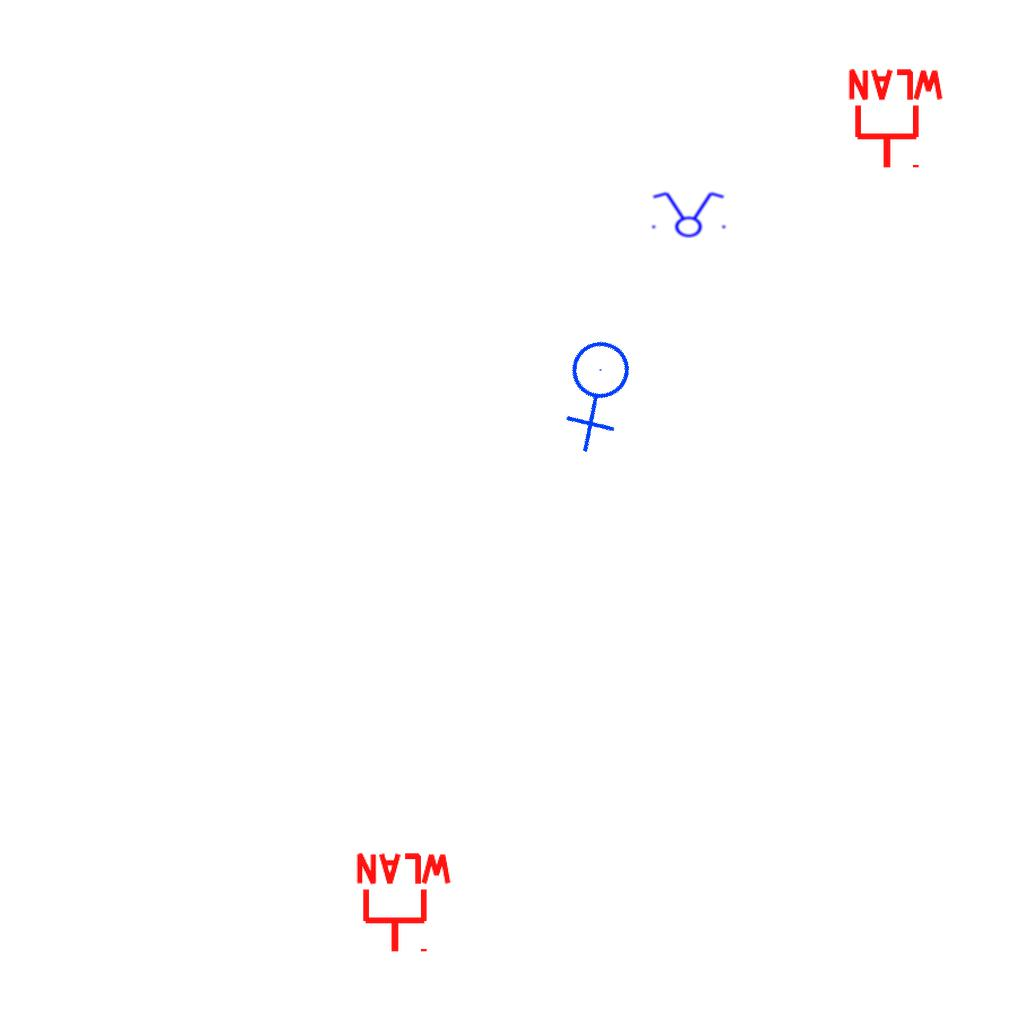Elektroanschluss_allgemein_230V_Geraeteanschlussdose_230V: (532, 324, 669, 458)
Serienschalter: (646, 190, 730, 238)
WLAN: (844, 67, 948, 172), (352, 851, 456, 956)
